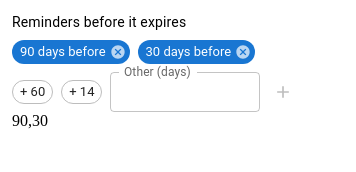
ReminderDaysField › removes one
The width and height of the screenshot is (356, 172).
Click the 1st icon with test id "CancelIcon".
click(118, 52)  # box [110,44,126,60]
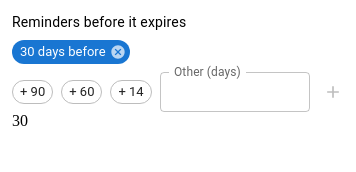
expect the text with test id "value" reads "30": met, box [12,112,28,129]
